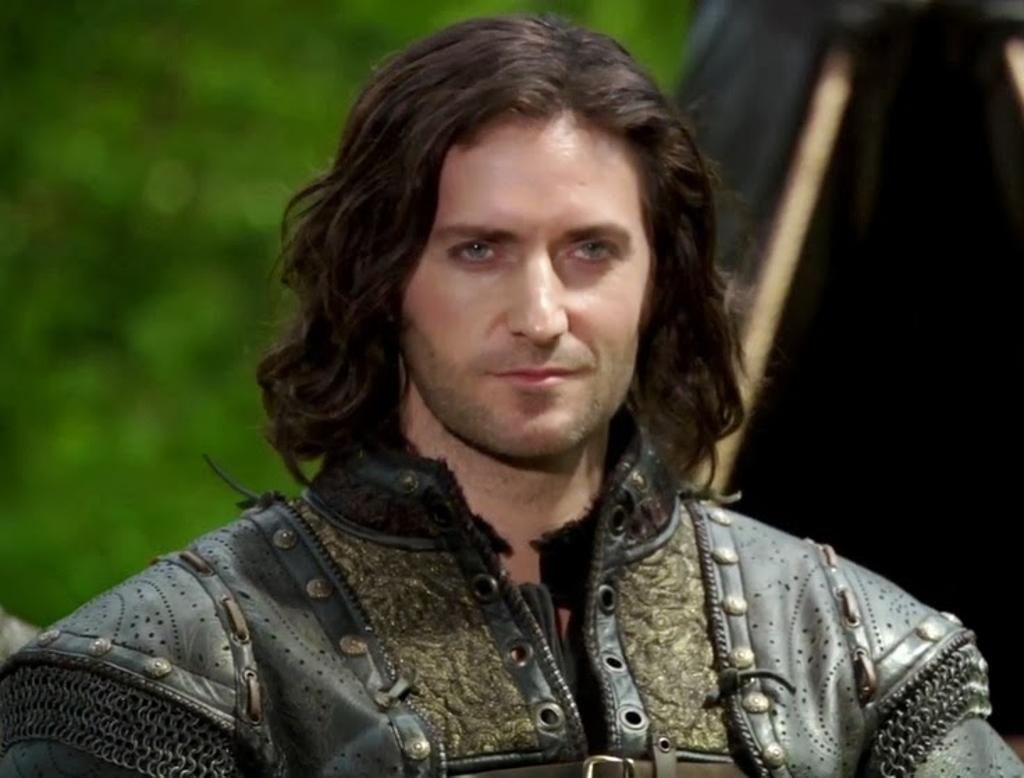face: (416, 128, 646, 456)
